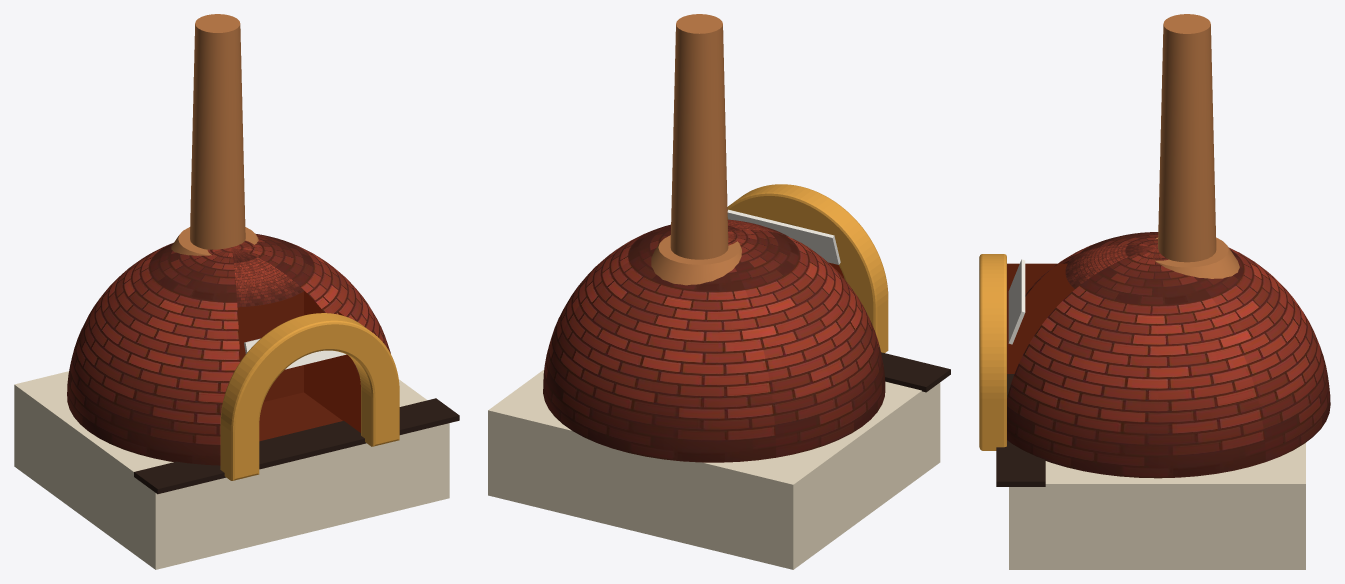
File: oven.glb
The picture shows the model from 3 angles, left to right: view 1: azimuth 30°, elevation 25°; view 2: azimuth 150°, elevation 25°; view 3: azimuth 270°, elevation 25°; orthographic projection. The views are drawn at different scales.
Visible parts, largest first — view 1: Oven_Plinth, Oven_Dome, Oven_Arch, Oven_Flue, Oven_Cavity, Oven_Ledge, Oven_Crown, Oven_Hood, Oven_PlaqueBoard; view 2: Oven_Dome, Oven_Plinth, Oven_Flue, Oven_Arch, Oven_Hood, Oven_Ledge, Oven_PlaqueBoard; view 3: Oven_Dome, Oven_Plinth, Oven_Flue, Oven_Arch, Oven_Cavity, Oven_Ledge, Oven_Crown, Oven_Hood, Oven_PlaqueBoard.
Boxes of the visible parts, x1,y1,x2,y2 form: Oven_Plinth: (14, 371, 449, 569); Oven_Dome: (67, 233, 390, 465); Oven_Arch: (220, 313, 399, 480); Oven_Flue: (190, 14, 245, 249); Oven_Cavity: (237, 291, 360, 441); Oven_Ledge: (134, 398, 459, 494); Oven_Crown: (232, 247, 304, 307); Oven_Hood: (171, 227, 258, 255); Oven_PlaqueBoard: (244, 338, 346, 369); Oven_Dome: (543, 224, 885, 462); Oven_Plinth: (488, 369, 940, 569); Oven_Flue: (670, 14, 728, 259); Oven_Arch: (727, 184, 888, 352); Oven_Hood: (651, 235, 741, 285); Oven_Ledge: (881, 352, 950, 392); Oven_PlaqueBoard: (727, 209, 840, 264); Oven_Dome: (1007, 232, 1330, 478); Oven_Plinth: (1009, 443, 1305, 569); Oven_Flue: (1158, 14, 1216, 262); Oven_Arch: (979, 254, 1006, 450); Oven_Cavity: (1007, 263, 1074, 373); Oven_Ledge: (996, 374, 1045, 486); Oven_Crown: (1065, 245, 1156, 288); Oven_Hood: (1155, 237, 1239, 278); Oven_PlaqueBoard: (1008, 259, 1025, 344).
Size of what is drawn, in the model's own units: 3.7 by 5.25 by 3.55.
Materials: 9 (1 with a texture image).
